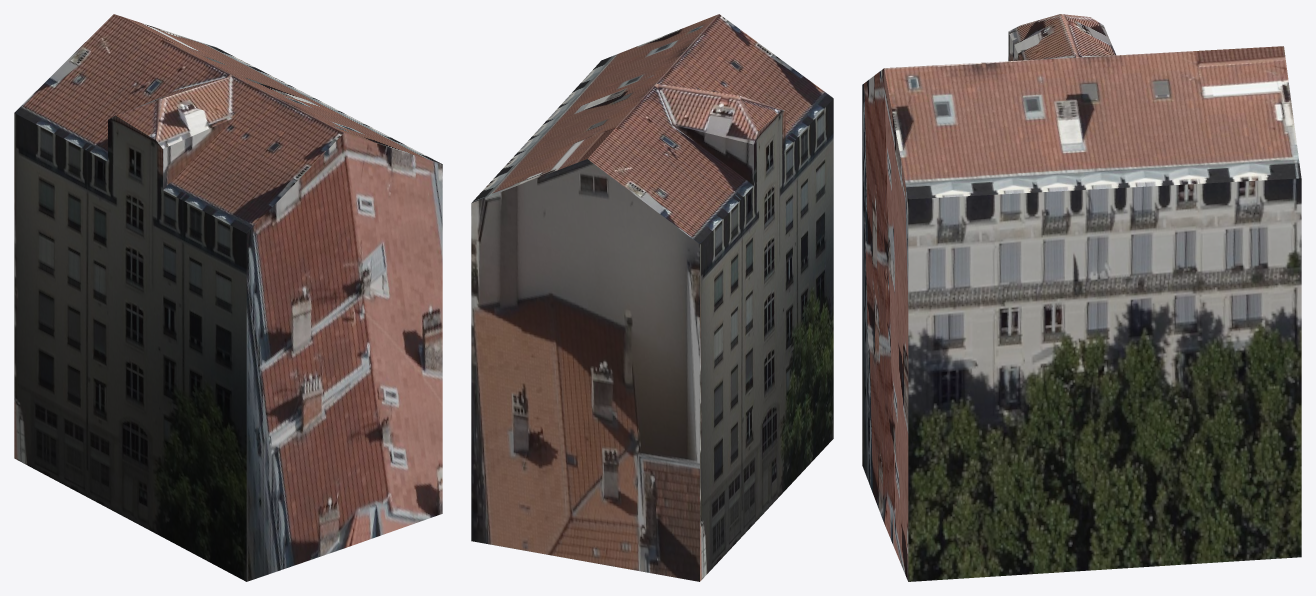
The picture shows the model from 3 angles, left to right: view 1: azimuth 30°, elevation 25°; view 2: azimuth 150°, elevation 25°; view 3: azimuth 270°, elevation 25°; orthographic projection. The views are drawn at different scales.
Parts seen in each view (by area): view 1: Z_UP; view 2: Z_UP; view 3: Z_UP.
Boxes of the visible parts, x1,y1,x2,y2 form: Z_UP: [14, 14, 442, 581]; Z_UP: [471, 14, 833, 581]; Z_UP: [862, 14, 1301, 581].
Size of the model in its own units: 18.16 by 27.26 by 23.82.
2 materials, 1 textured.
